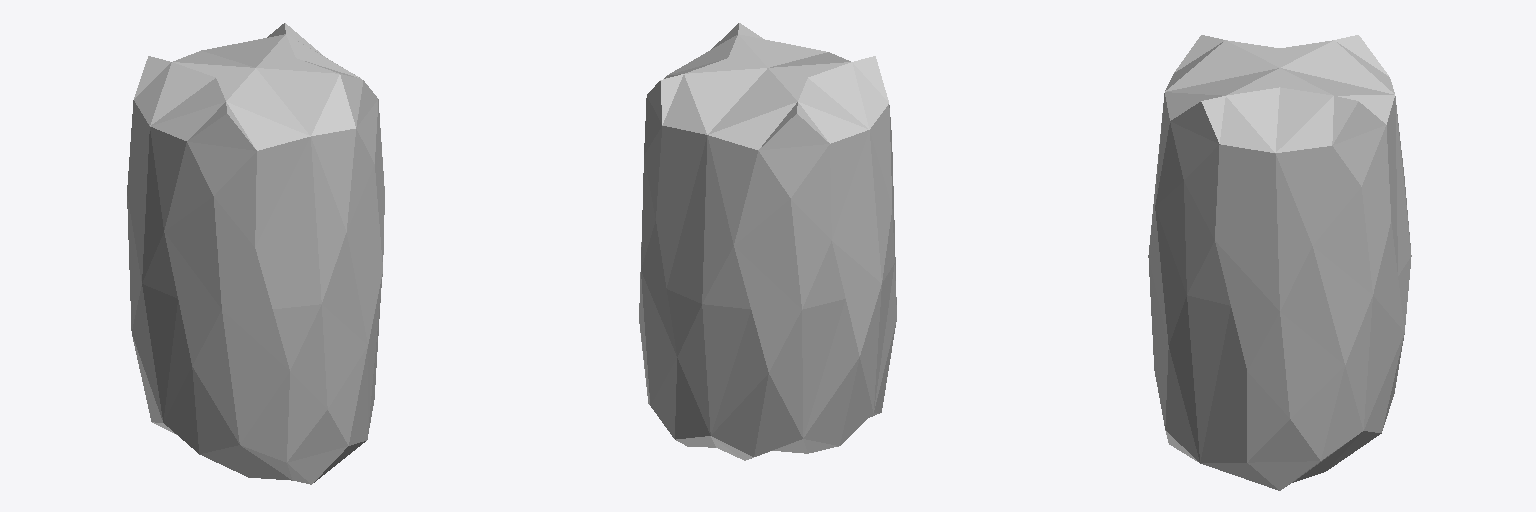
The model's file is barrel.obj.
3 views of the same model, side by side, from view 1: azimuth 30°, elevation 25°; view 2: azimuth 150°, elevation 25°; view 3: azimuth 270°, elevation 25° (orthographic).
Visible parts, largest first — view 1: Cube_Cube.001; view 2: Cube_Cube.001; view 3: Cube_Cube.001.
Boxes of the visible parts, box(x1,y1,x2,y2) form: Cube_Cube.001: box(127, 23, 384, 484); Cube_Cube.001: box(639, 23, 896, 460); Cube_Cube.001: box(1148, 35, 1411, 490).
Bounding box in the file's own units: 1.9 × 3 × 1.9.